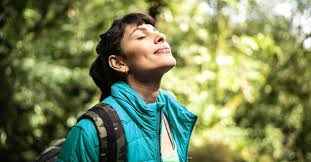face: (122, 23, 182, 75)
